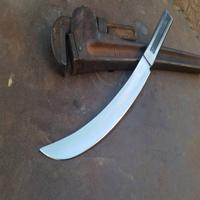knife: (39, 8, 174, 174)
